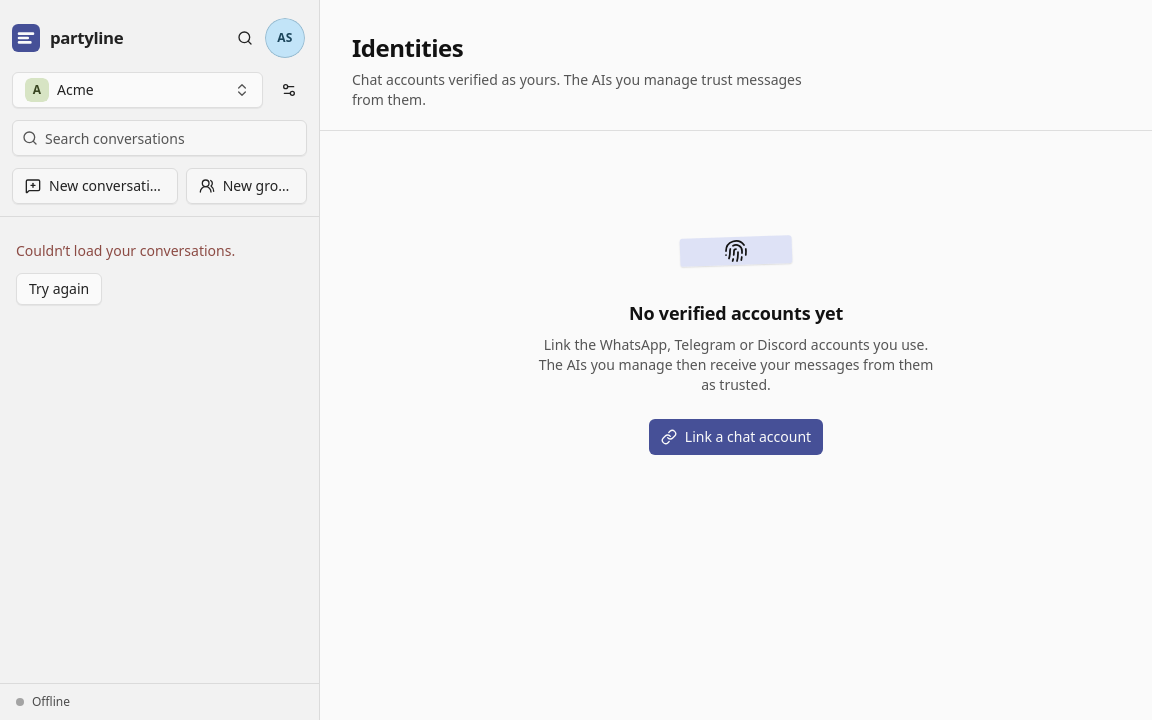
Test: identities page (UI-18) › asks which connector first when several can be used, then pairs through the chosen one
Click the button "Link a chat account" at (736, 437), box top-left (649, 419), bottom-right (823, 455)
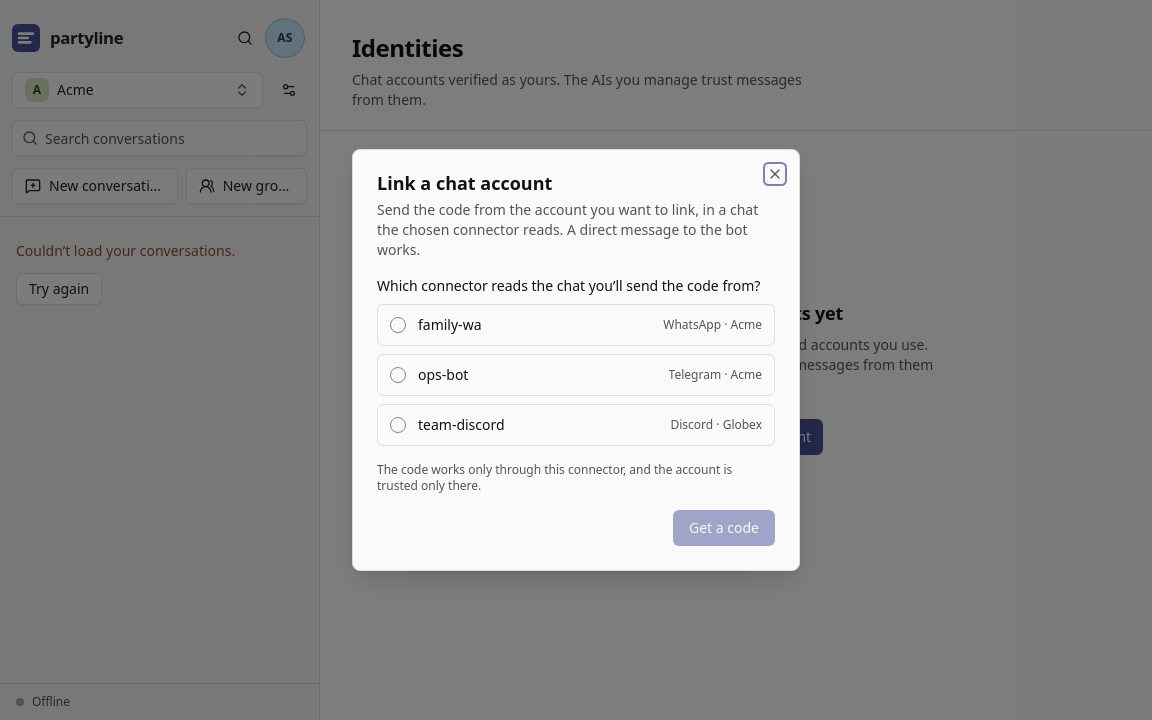
Now the number of radio buttons is 3
Now the text "Discord · Globex" is shown, box top-left (670, 417), bottom-right (762, 433)
Now the text "WhatsApp · Acme" is shown, box top-left (663, 317), bottom-right (762, 333)
Click the radio button named "ops-bot" next to "ops-bot" at (398, 375), box top-left (390, 367), bottom-right (406, 383)
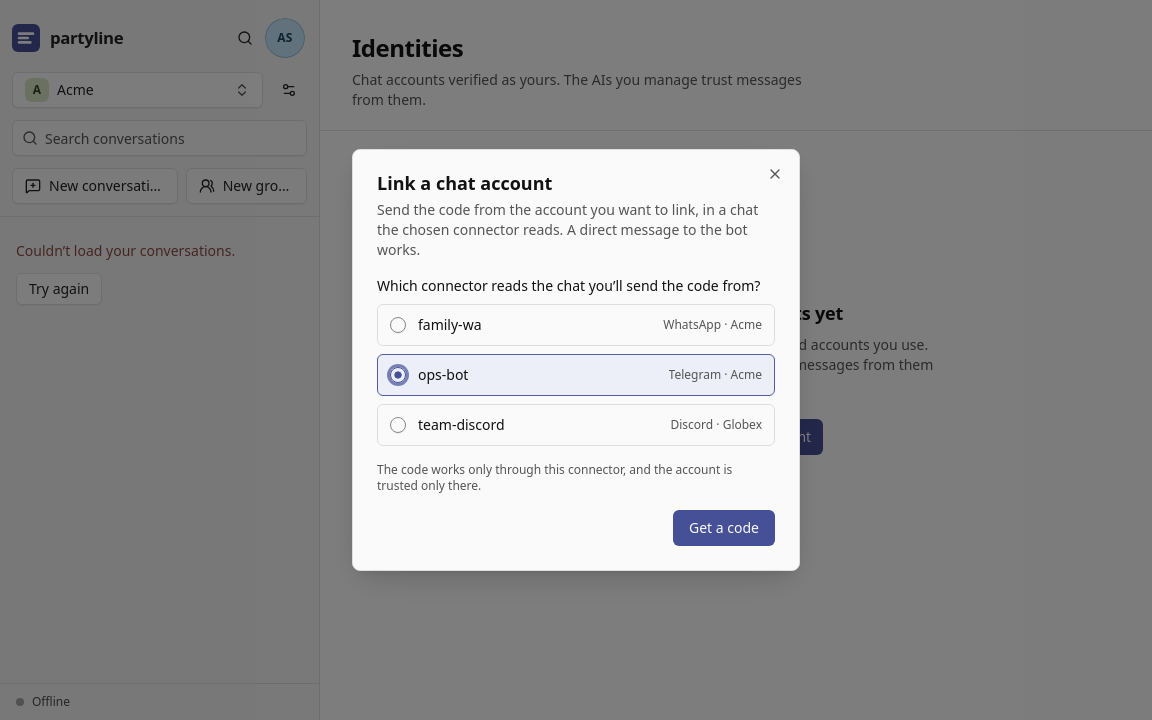
Click the button "Get a code" at (724, 528), box top-left (673, 510), bottom-right (775, 546)
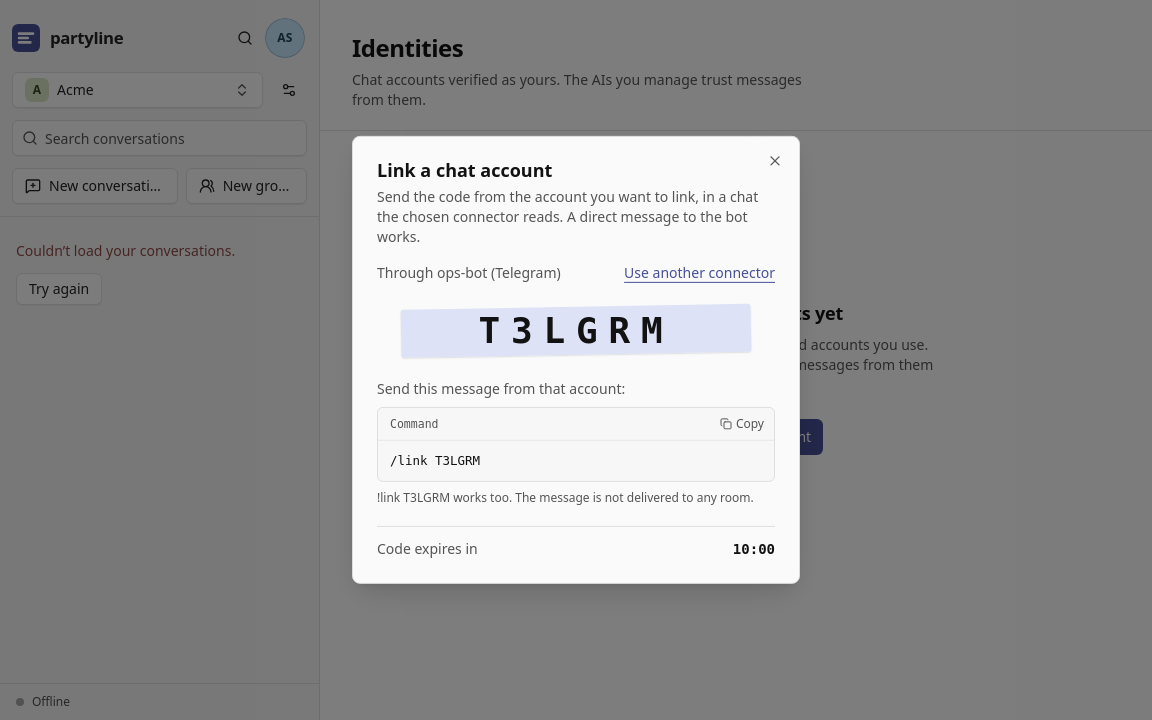
Now the text "T3LGRM" is shown, box top-left (479, 310), bottom-right (673, 351)
Now the text "Through ops-bot (Telegram)" is shown, box top-left (377, 263), bottom-right (561, 283)
Now the element showing "/link T3LGRM" is shown, box top-left (390, 453), bottom-right (480, 468)
Click the button "Use another connector" at (700, 273), box top-left (624, 263), bottom-right (775, 283)
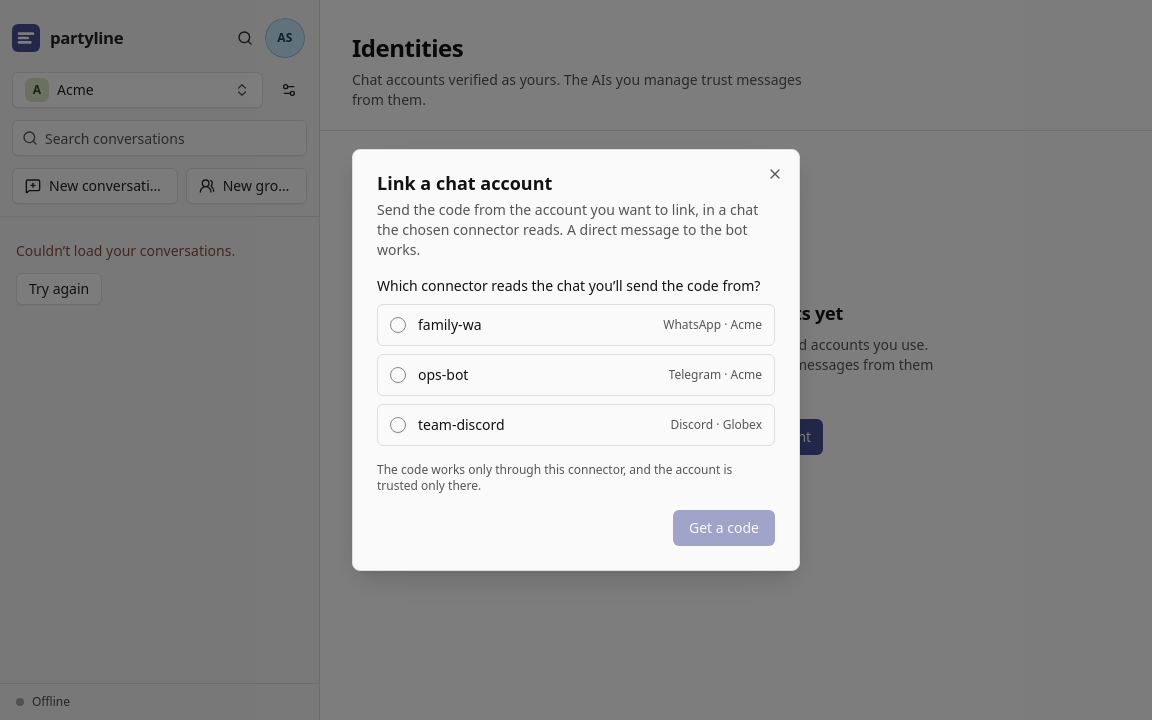
Now the element that starts with "family-wa" is shown, box top-left (377, 304), bottom-right (775, 446)
